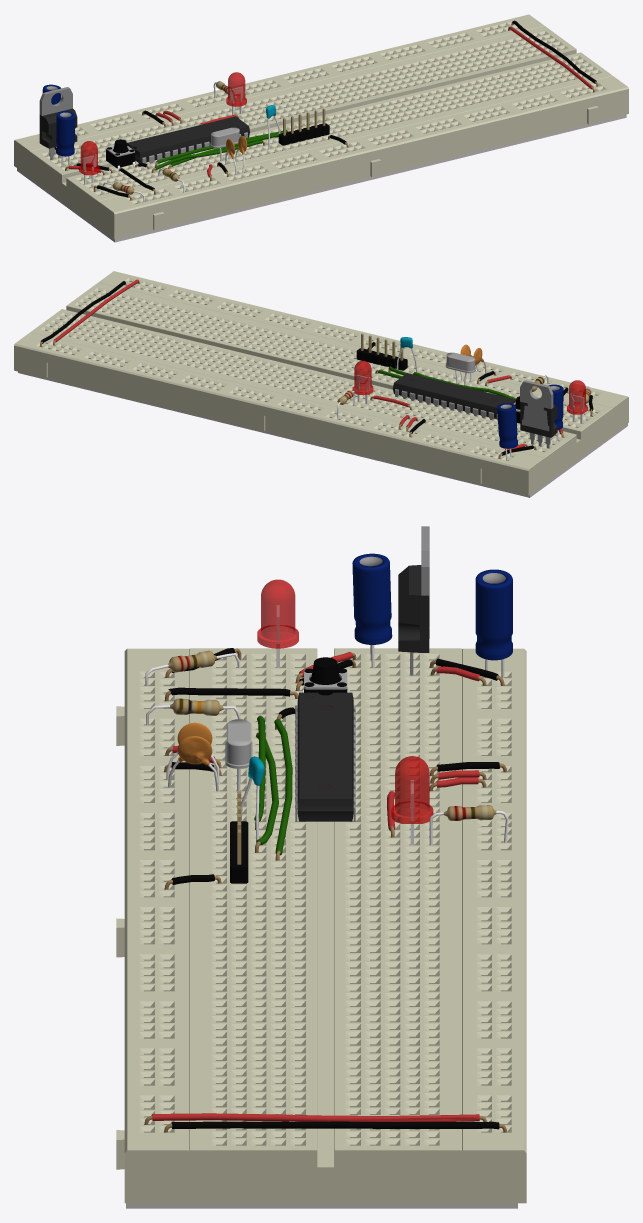
The model's file is Breadboard.glb.
3 views of the same model, one above another, from view 1: azimuth 30°, elevation 25°; view 2: azimuth 150°, elevation 25°; view 3: azimuth 270°, elevation 25° (orthographic). The views are drawn at different scales.
Parts seen in each view (by area): view 1: Breadboard; view 2: Breadboard; view 3: Breadboard.
Boxes of the visible parts, x1,y1,x2,y2 form: Breadboard: [14, 14, 628, 242]; Breadboard: [14, 271, 628, 497]; Breadboard: [116, 526, 526, 1208].
Size of the model in its own units: 27.39 by 4.74 by 9.46.
19 materials, 2 textured.
